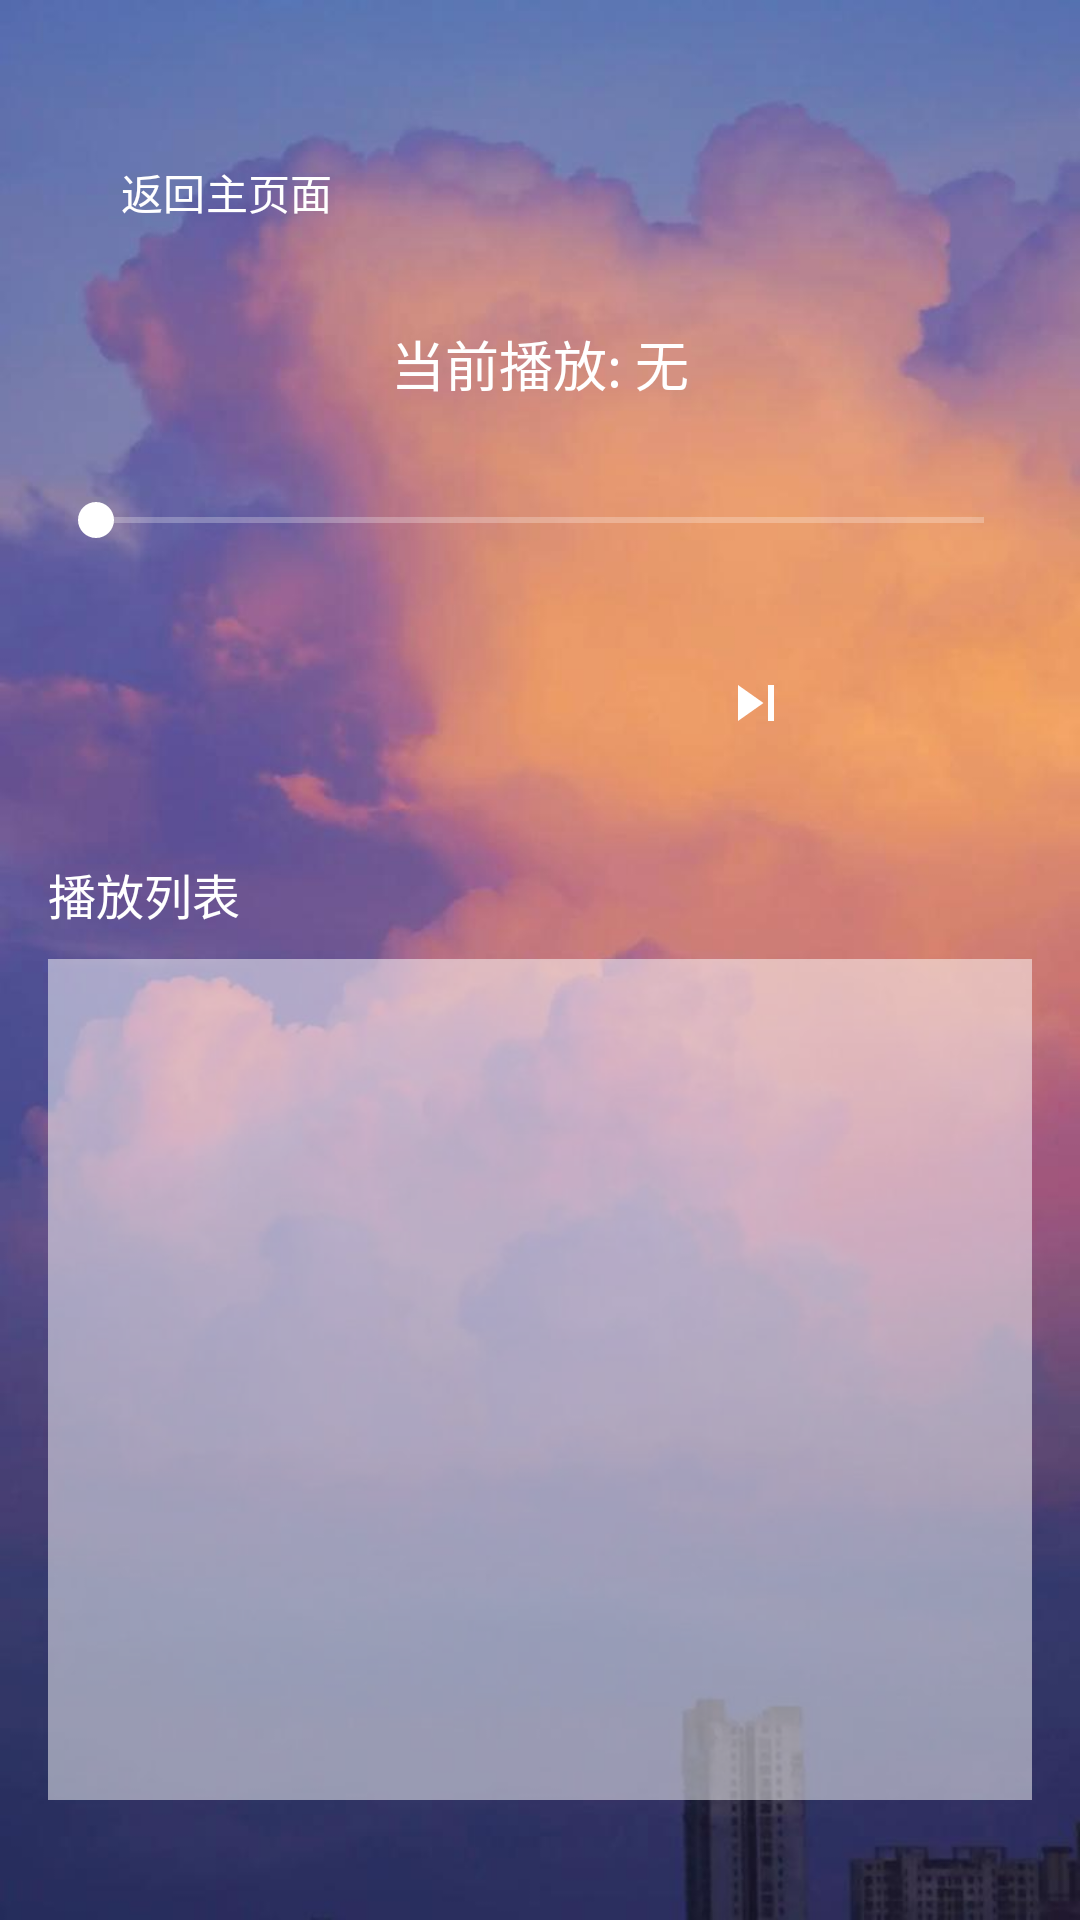

Where to tap for icons on this 1080w x 1920h app screen, as point (x, y):
下一首: point (756, 703)
